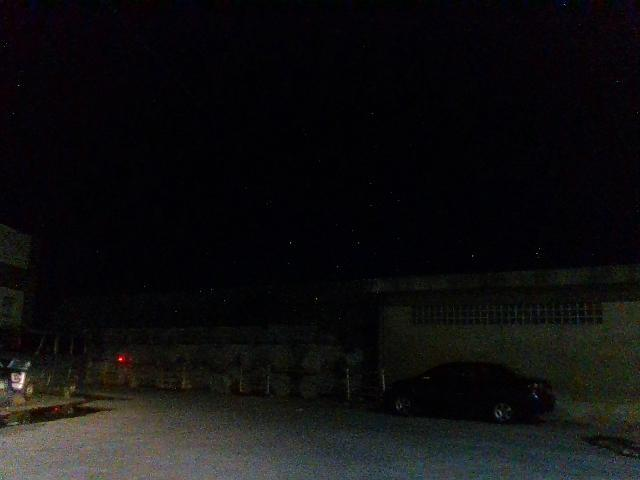pollute: (578, 436, 638, 465)
